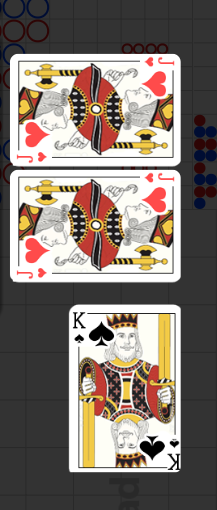JH: (143, 171, 175, 184), (143, 55, 175, 68)
KS: (166, 436, 181, 471)
